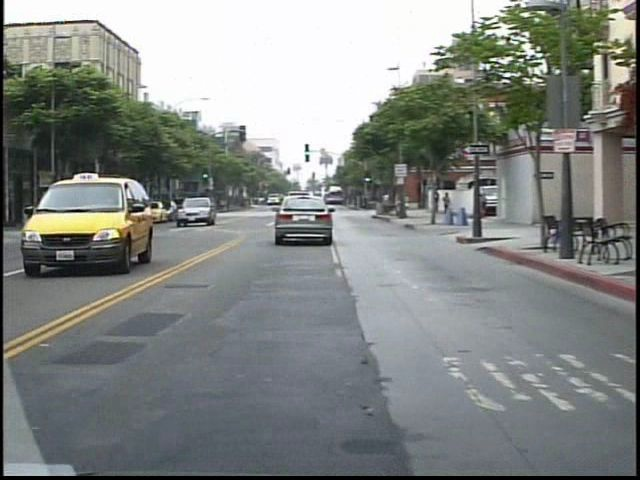person: (415, 182, 431, 223), (369, 187, 386, 218), (432, 186, 447, 221)
